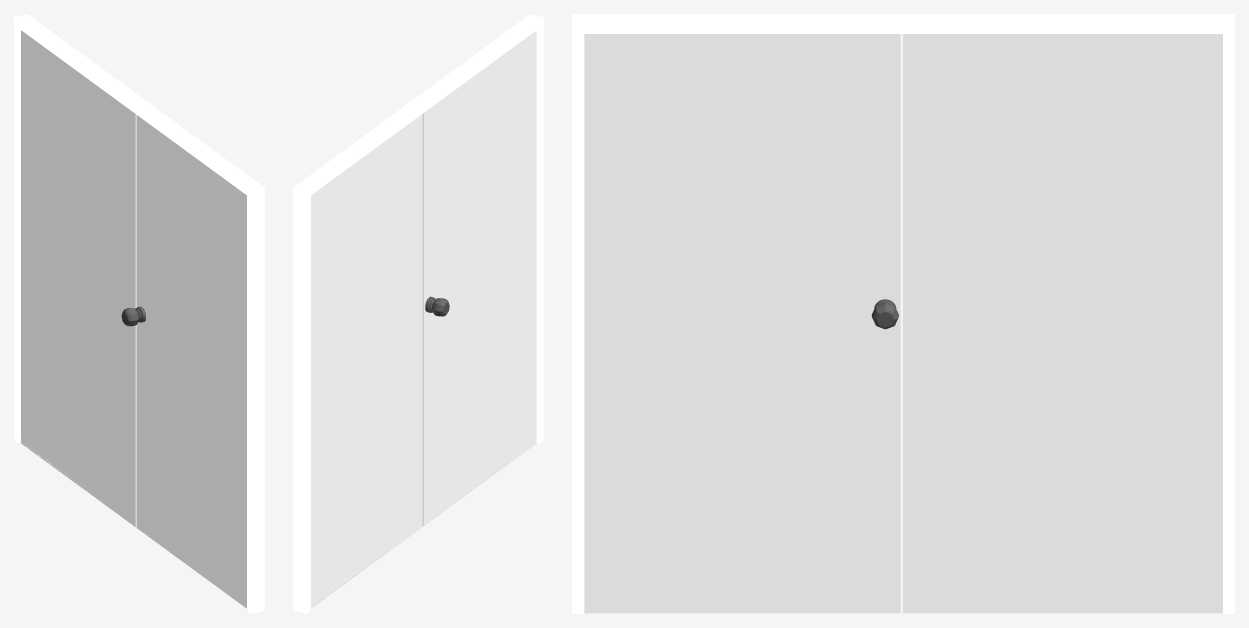
File: double_door .37f2ee9c.gltf
3 views of the same model, side by side, from view 1: azimuth 30°, elevation 25°; view 2: azimuth 150°, elevation 25°; view 3: azimuth 270°, elevation 25° (orthographic). The views are drawn at different scales.
Parts seen in each view (by area): view 1: doors, trim, knob; view 2: doors, trim, knob; view 3: doors, trim.
Boxes of the visible parts, <box> form: doors: <box>21,30,246,608</box>; trim: <box>14,14,264,613</box>; knob: <box>121,306,145,326</box>; doors: <box>311,30,536,608</box>; trim: <box>293,14,543,613</box>; knob: <box>425,296,449,316</box>; doors: <box>584,34,1222,613</box>; trim: <box>572,14,1234,613</box>.
Size of the model in its own units: 0.6063 by 6.01 by 6.1.
Materials: 3 (1 with a texture image).
